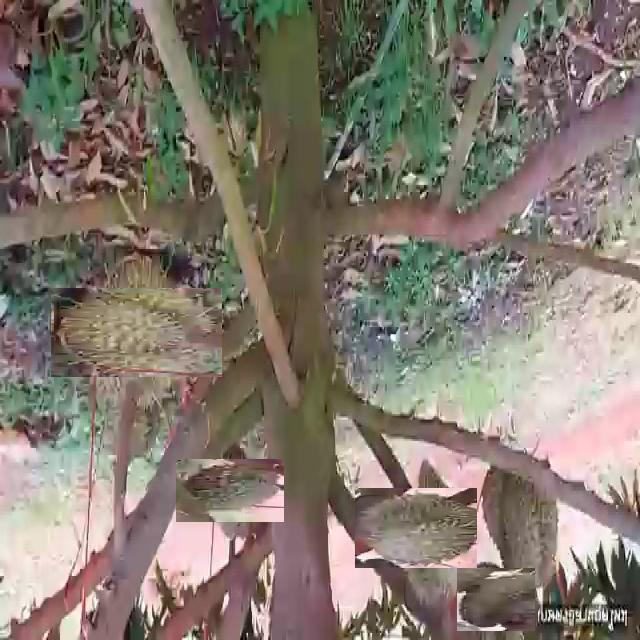durian: (71, 267, 202, 397), (376, 467, 497, 590), (477, 444, 561, 594), (186, 447, 272, 534), (460, 564, 531, 635)
